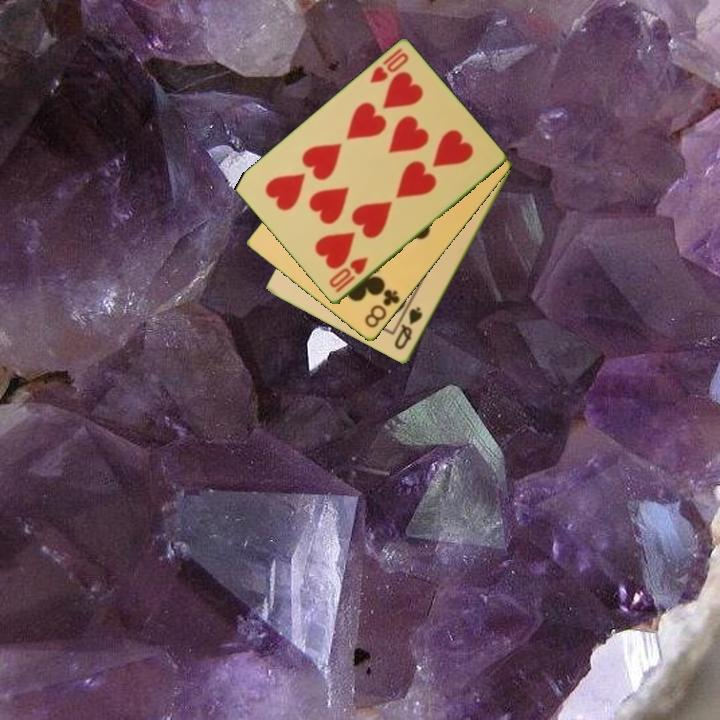10h: (325, 254, 371, 296), (366, 45, 412, 87)
8c: (361, 286, 403, 331)
Qs: (391, 303, 426, 353)
